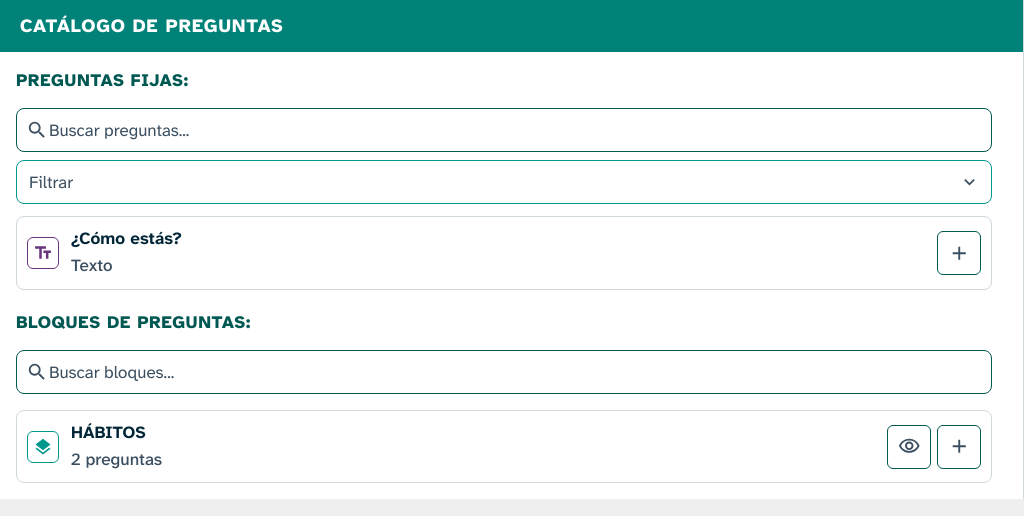
CatalogSidebar › filtra los elementos cargados por su texto
Expected: the heading "¿Cómo estás?" is shown, [71,227,182,249]
Type "otra" into the search field named "Buscar preguntas fijas" at point(504, 130), box [16,108,992,152]
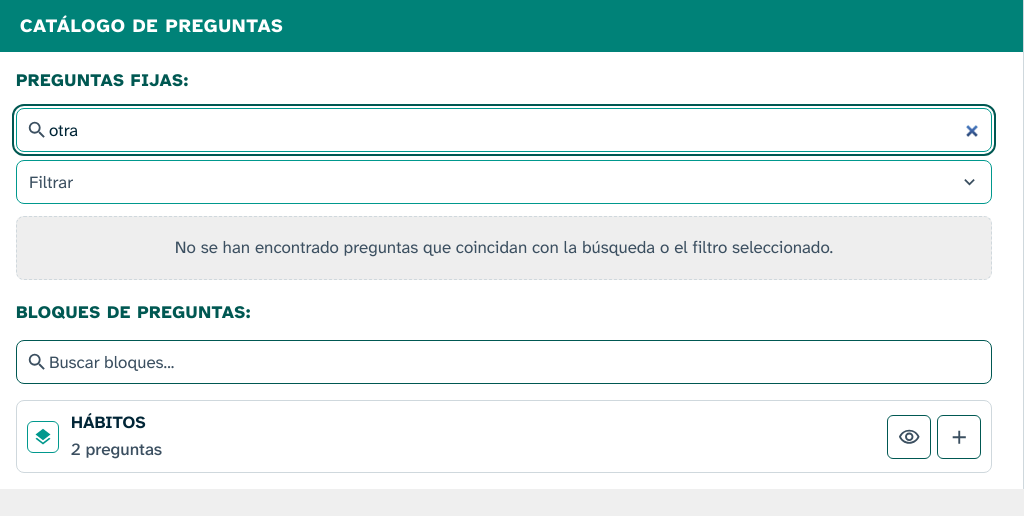
Now the heading "¿Cómo estás?" is gone
Now the text "No se han encontrado preguntas" is shown, box [175,236,833,258]
Type "otro" into the search field named "Buscar bloques de preguntas" at point(504, 362), box [16,340,992,384]
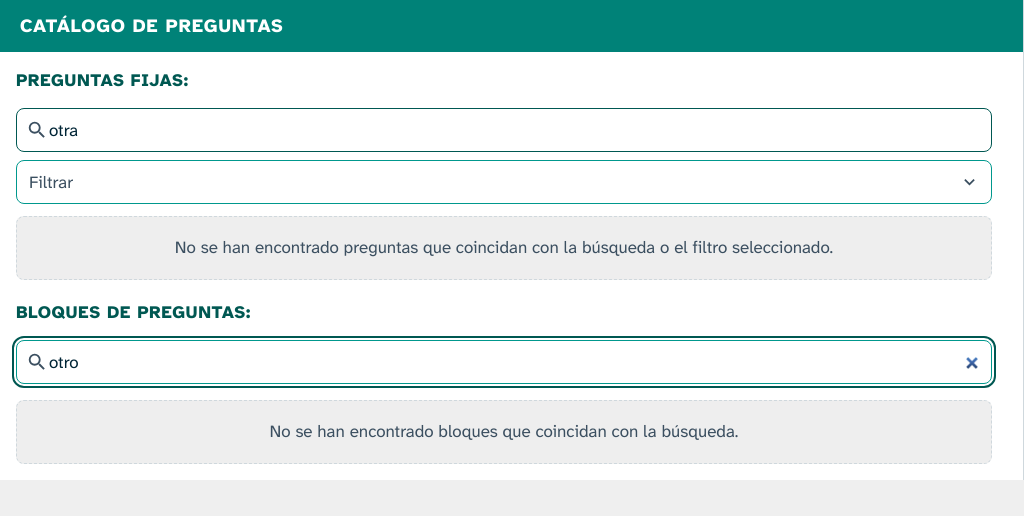
Now the heading "HÁBITOS" is gone
